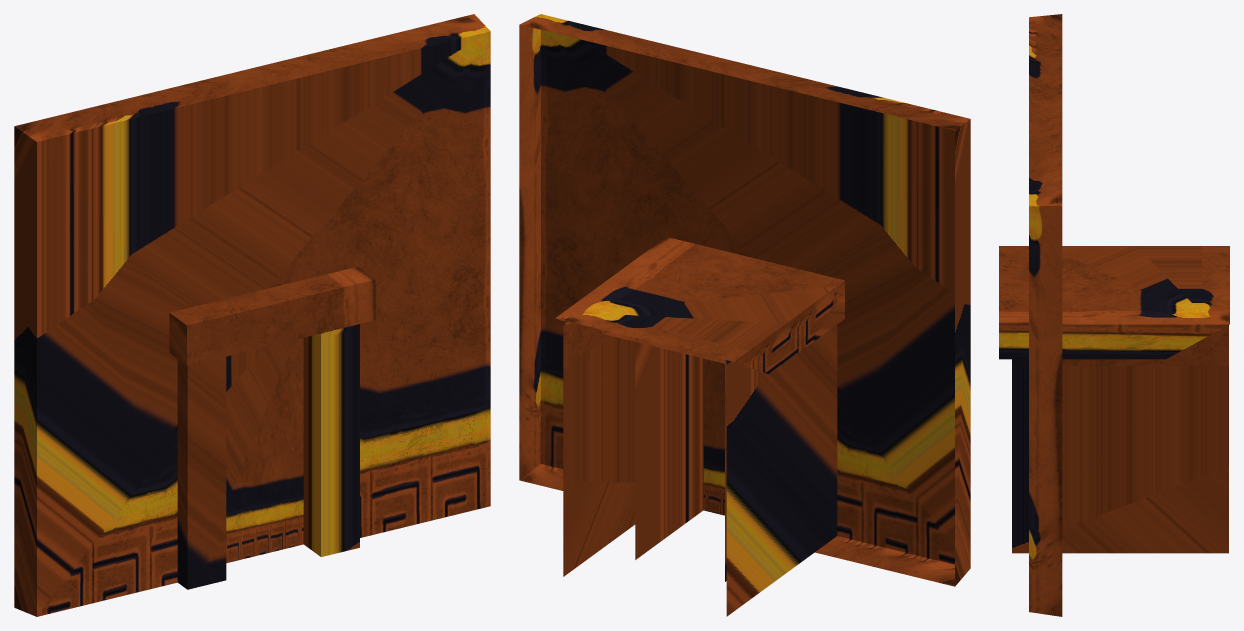
Rendered from DoorLittle.fbx.
3 renders of one model, left to right at view 1: azimuth 30°, elevation 25°; view 2: azimuth 150°, elevation 25°; view 3: azimuth 270°, elevation 25°, orthographic. The views are drawn at different scales.
Visible parts, largest first — view 1: FrameLow, DoorLow; view 2: FrameLow, DoorLow; view 3: FrameLow.
Boxes of the visible parts, x1,y1,x2,y2 form: FrameLow: (14, 14, 490, 616); DoorLow: (226, 338, 303, 563); FrameLow: (519, 14, 970, 616); DoorLow: (703, 358, 724, 515); FrameLow: (999, 14, 1229, 616).
Size of the model in its own units: 226 by 226 by 115.
